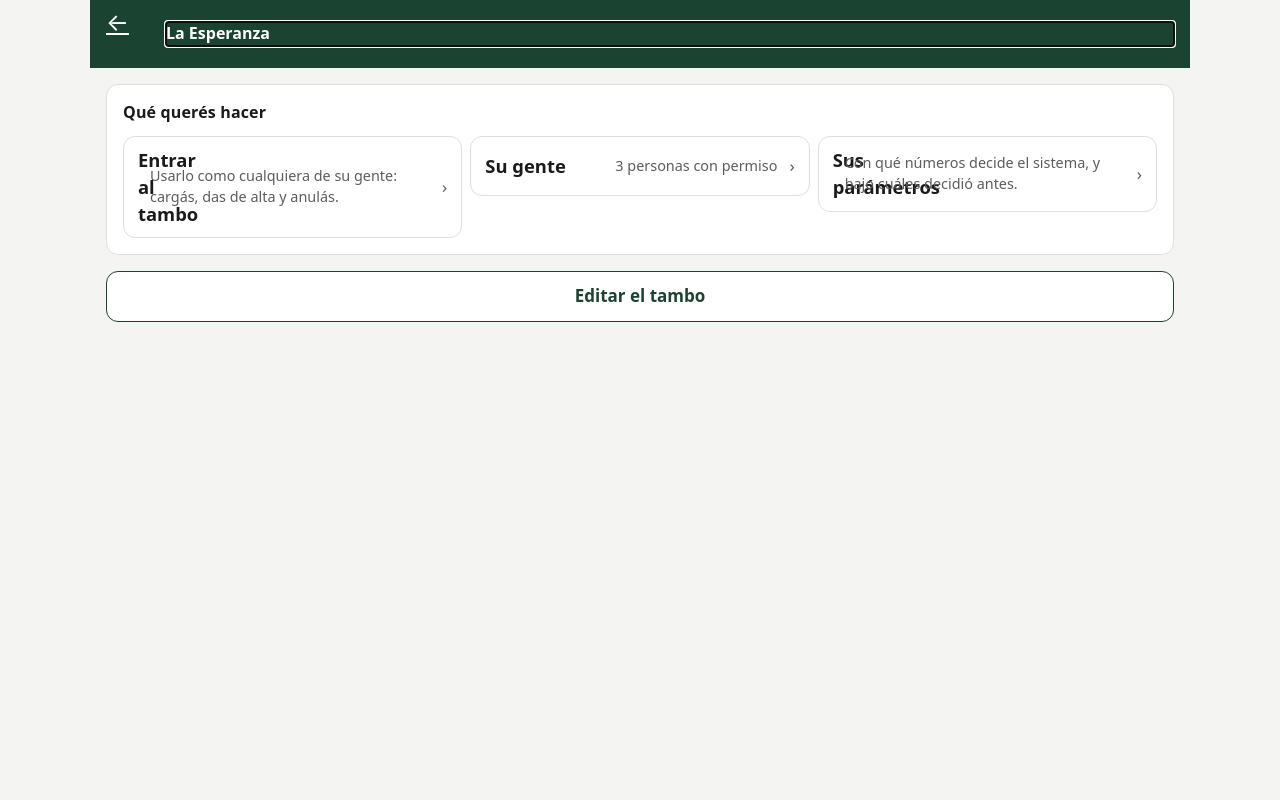
entrar al tambo y volver › el tambo abierto no se guarda entre visitas: el inicio sigue siendo el panel
The image size is (1280, 800).
Click the button named "Entrar al tambo": (293, 187) [123,136,462,238]
(page scrolled)
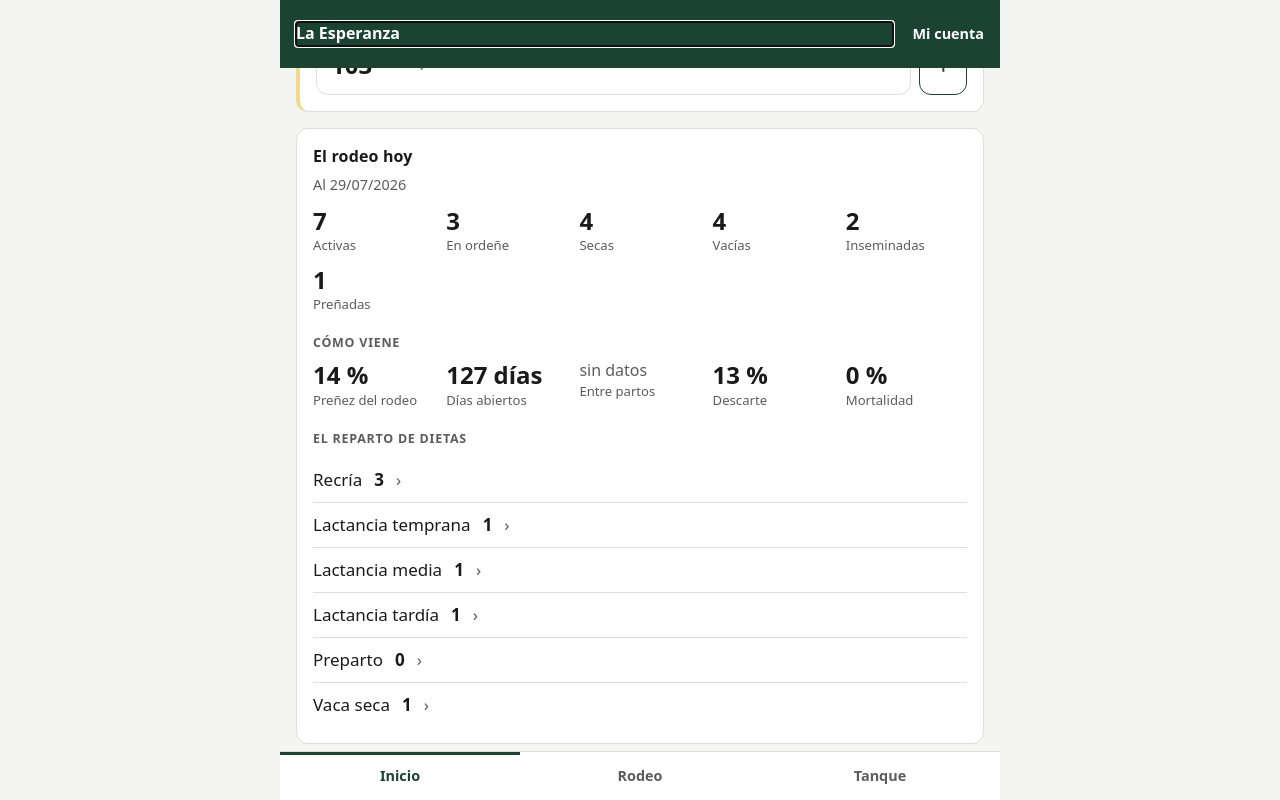
Result: the text "Preñez del rodeo" is shown at [313,391,434,410]
